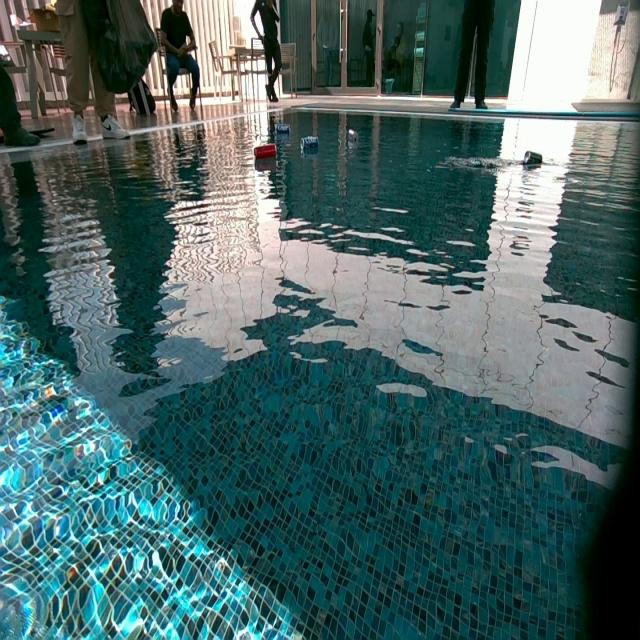Cans: (522, 153, 543, 170), (255, 143, 277, 159), (301, 136, 321, 152), (275, 124, 291, 137), (347, 131, 360, 143)
